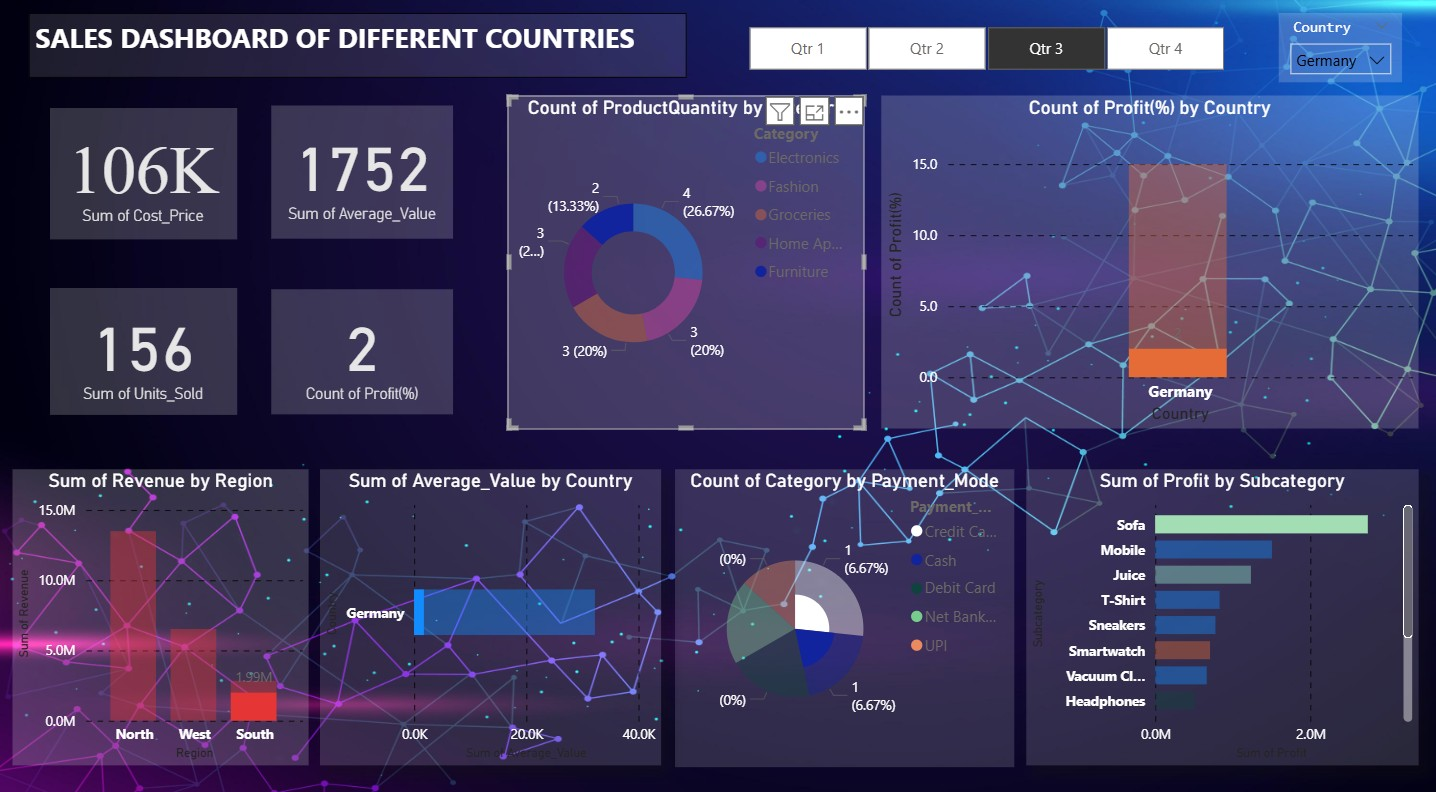

The page's visual inventory and layout, read from the dashboard file:
{"tool":"powerbi","page":{"name":"Page 1","canvas":[1280,720],"ordinal":0},"visuals":[{"type":"textbox","box":[26.1,13.7,584.6,57.6],"z":0},{"type":"columnChart","fields":{"Y":["CountNonNull(Sheet1.Profit(%))"],"Category":["Sheet1.Country"]},"box":[783.5,86.4,477.5,296.4],"z":1000},{"type":"barChart","fields":{"Category":["Sheet1.Subcategory"],"Y":["Sum(Sheet1.Profit)"]},"box":[912.5,418.5,348.5,263.5],"z":2000},{"type":"donutChart","fields":{"Category":["Sheet1.Category"],"Y":["CountNonNull(Sheet1.ProductQuantity)"]},"box":[451.5,86.4,317,296.4],"z":3000},{"type":"pieChart","fields":{"Category":["Sheet1.Payment_Mode"],"Y":["CountNonNull(Sheet1.Category)"]},"box":[599.7,418.5,301.9,264.8],"z":4000},{"type":"card","fields":{"Values":["Sum(Sheet1.Cost_Price)"]},"box":[43.9,97.4,166,116.6],"z":5000},{"type":"card","fields":{"Values":["CountNonNull(Sheet1.Profit(%))"]},"box":[241.5,259.3,161.9,111.1],"z":6000},{"type":"card","fields":{"Values":["Sum(Sheet1.Units_Sold)"]},"box":[43.9,258,166,112.5],"z":7000},{"type":"card","fields":{"Values":["Sum(Sheet1.Average_Value)"]},"box":[241.5,96.1,161.9,118],"z":8000},{"type":"barChart","fields":{"Category":["Sheet1.Country"],"Y":["Sum(Sheet1.Average_Value)"]},"box":[284,418.5,303.3,263.5],"z":9000},{"type":"columnChart","fields":{"Y":["Sum(Sheet1.Revenue)"],"Category":["Sheet1.Region"]},"box":[11,418.5,263.5,263.5],"z":10000},{"type":"slicer","fields":{"Values":["Sheet1.Date.Variation.Date Hierarchy.Quarter"]},"box":[639.5,19.2,472,52.1],"z":11000},{"type":"slicer","fields":{"Values":["Sheet1.Country"]},"box":[1136.2,13.7,109.8,61.7],"z":12000}]}

Visuals, with their boxes in screenshot pixels (x1, y1, x2, y2), scaled from the page's 1280x720 canvas onto the 1436x792 screenshot:
textbox: (x1=29, y1=15, x2=685, y2=78)
columnChart - CountNonNull(Sheet1.Profit(%)) x Sheet1.Country: (x1=879, y1=95, x2=1415, y2=421)
barChart - Sheet1.Subcategory x Sum(Sheet1.Profit): (x1=1024, y1=460, x2=1415, y2=750)
donutChart - Sheet1.Category x CountNonNull(Sheet1.ProductQuantity): (x1=507, y1=95, x2=862, y2=421)
pieChart - Sheet1.Payment_Mode x CountNonNull(Sheet1.Category): (x1=673, y1=460, x2=1011, y2=752)
card - Sum(Sheet1.Cost_Price): (x1=49, y1=107, x2=235, y2=235)
card - CountNonNull(Sheet1.Profit(%)): (x1=271, y1=285, x2=453, y2=407)
card - Sum(Sheet1.Units_Sold): (x1=49, y1=284, x2=235, y2=408)
card - Sum(Sheet1.Average_Value): (x1=271, y1=106, x2=453, y2=236)
barChart - Sheet1.Country x Sum(Sheet1.Average_Value): (x1=319, y1=460, x2=659, y2=750)
columnChart - Sum(Sheet1.Revenue) x Sheet1.Region: (x1=12, y1=460, x2=308, y2=750)
slicer - Sheet1.Date.Variation.Date Hierarchy.Quarter: (x1=717, y1=21, x2=1247, y2=78)
slicer - Sheet1.Country: (x1=1275, y1=15, x2=1398, y2=83)
